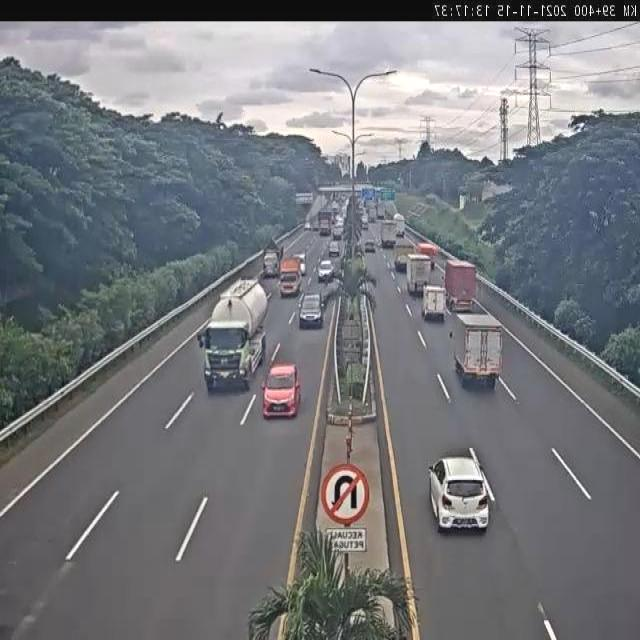Car: (429, 445, 494, 538), (255, 348, 308, 426), (297, 292, 327, 332), (315, 261, 336, 292), (327, 241, 340, 258), (364, 240, 376, 256), (332, 228, 343, 240)
Truck: (192, 273, 270, 393), (450, 305, 508, 390), (439, 256, 483, 313), (404, 252, 432, 298), (258, 232, 284, 280), (278, 257, 303, 302), (420, 284, 448, 320), (392, 242, 416, 273), (417, 239, 437, 269), (380, 220, 396, 249), (318, 209, 332, 240), (393, 214, 406, 237)
